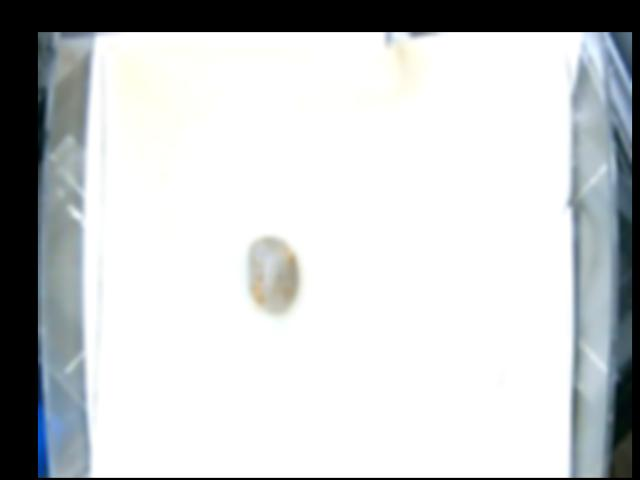Pebble: (247, 237, 297, 315)
